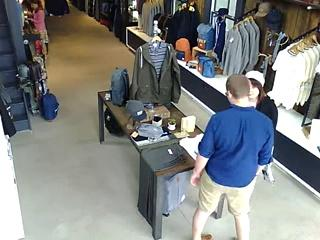Normal: (190, 74, 274, 240), (246, 70, 278, 184), (23, 0, 50, 56)
